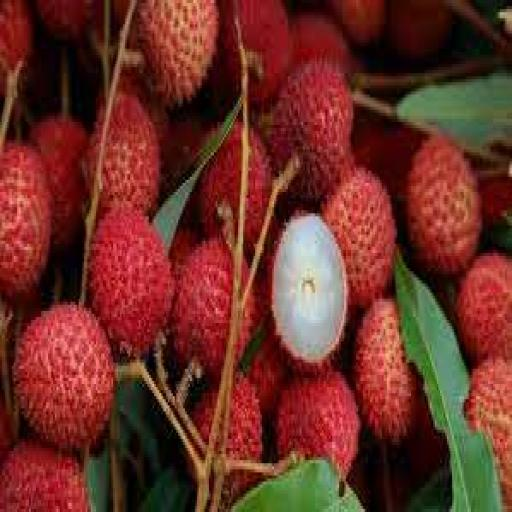lychee: (14, 305, 114, 451), (90, 208, 174, 356), (269, 61, 352, 204), (273, 214, 347, 371), (406, 135, 481, 274), (324, 168, 395, 307), (353, 299, 417, 441), (137, 0, 219, 106), (170, 238, 232, 377), (276, 372, 359, 475), (213, 0, 292, 106), (0, 144, 51, 295), (31, 116, 87, 249), (100, 92, 160, 213), (465, 360, 511, 508), (353, 116, 422, 213), (0, 442, 89, 511), (458, 253, 511, 362), (199, 122, 243, 234), (292, 13, 356, 76), (161, 113, 208, 198), (387, 0, 453, 60), (249, 333, 287, 417), (0, 0, 32, 94), (227, 378, 263, 460), (328, 0, 386, 45), (36, 0, 90, 39), (480, 177, 511, 225), (170, 229, 198, 274), (0, 403, 13, 466)
